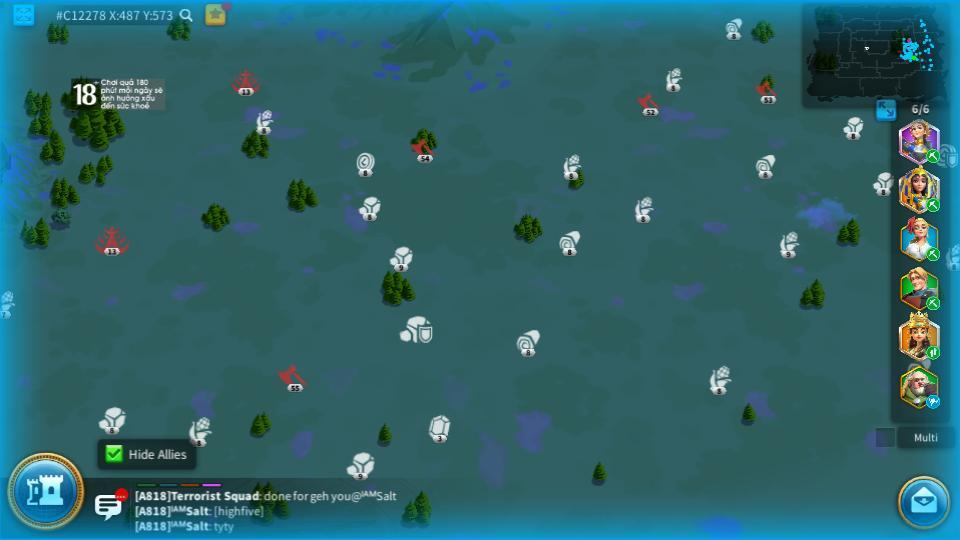march_farming: (924, 197, 939, 212), (926, 297, 941, 308)
march_idle: (925, 396, 942, 408)
march_marching: (925, 346, 941, 359), (925, 149, 938, 162)
